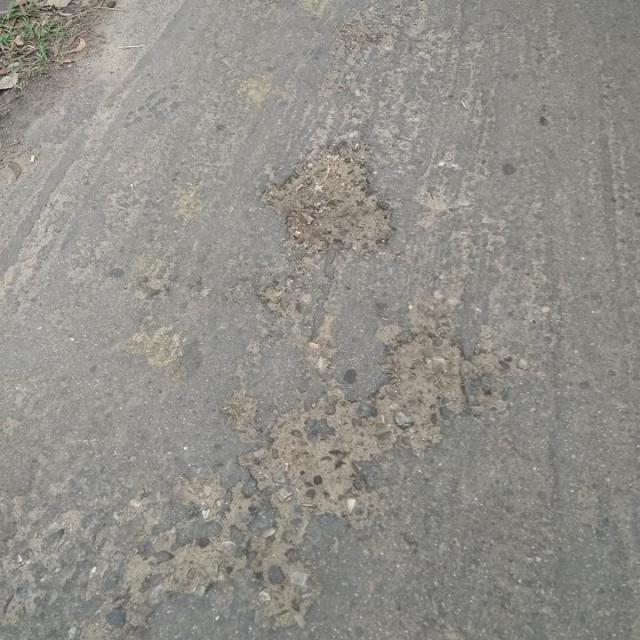Pothole: (240, 388, 372, 518), (254, 140, 396, 260), (368, 326, 473, 454)
